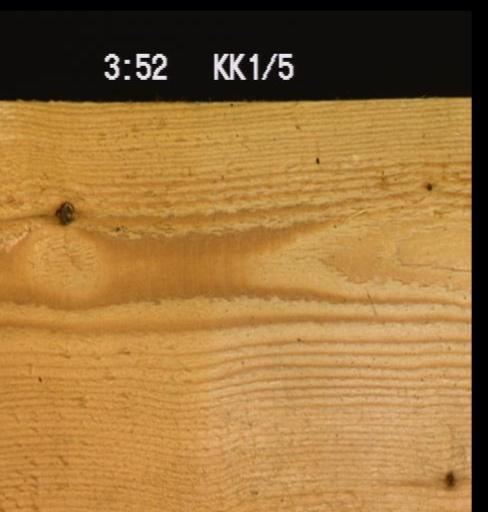dry_knot: (52, 197, 76, 225)
small_knot: (440, 467, 456, 487), (421, 178, 431, 192)
